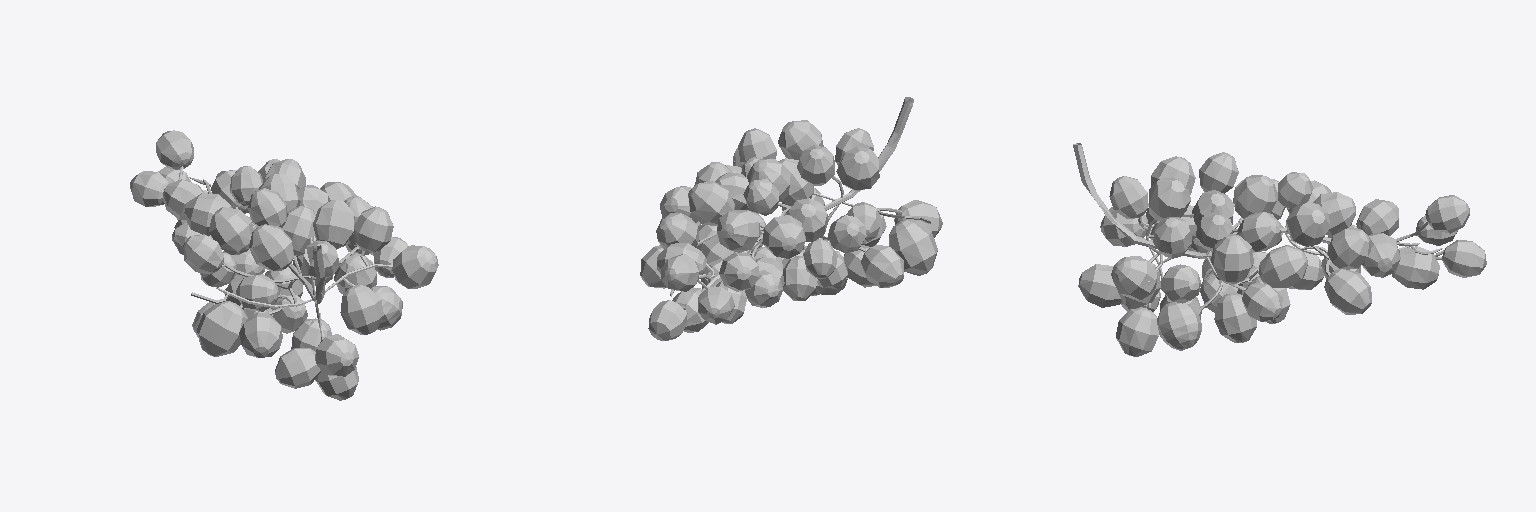
Rendered from Uvas.obj.
3 views of the same model, side by side, from view 1: azimuth 30°, elevation 25°; view 2: azimuth 150°, elevation 25°; view 3: azimuth 270°, elevation 25° (orthographic).
Visible parts, largest first — view 1: Uvas.001_grapes(quads).000; view 2: Uvas.001_grapes(quads).000; view 3: Uvas.001_grapes(quads).000.
Part boxes in pixels (left/top/right/bottom): Uvas.001_grapes(quads).000: left=130, top=130, right=438, bottom=400; Uvas.001_grapes(quads).000: left=640, top=97, right=942, bottom=340; Uvas.001_grapes(quads).000: left=1073, top=143, right=1486, bottom=356.
Size of the model in its own units: 0.2692 by 0.2109 by 0.4229.